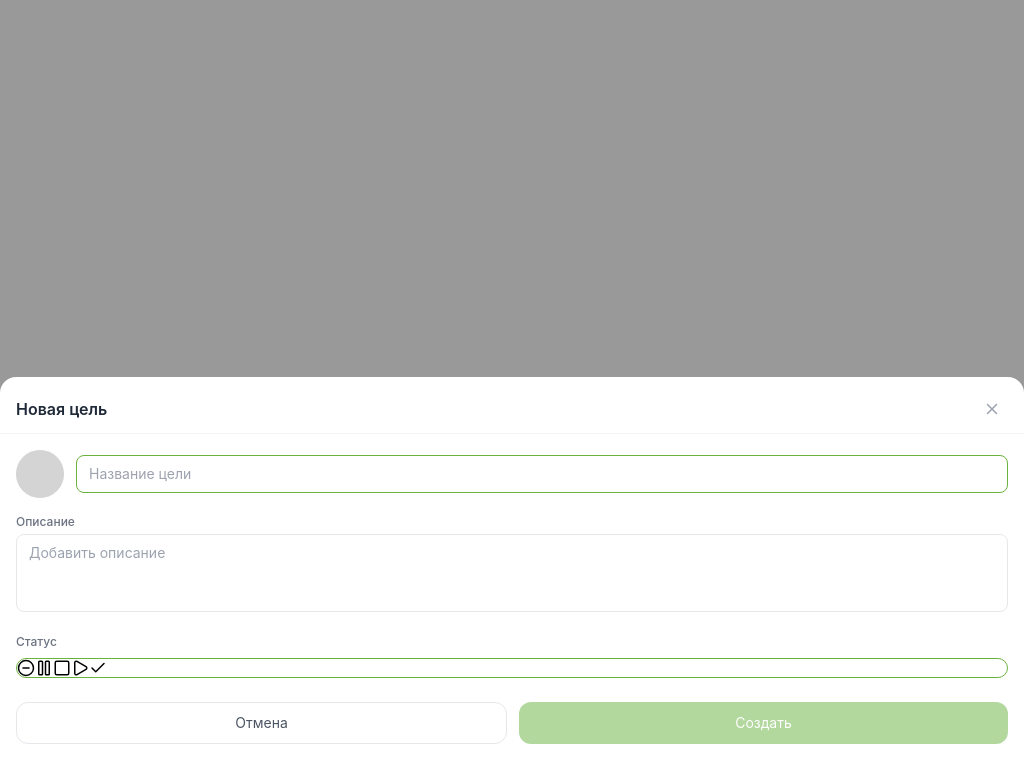
GoalCreateSheet › should enable save button when title is entered
Type "My Goal" into the field with test id "goal-create-title-input" at (542, 474), box [76, 455, 1008, 493]
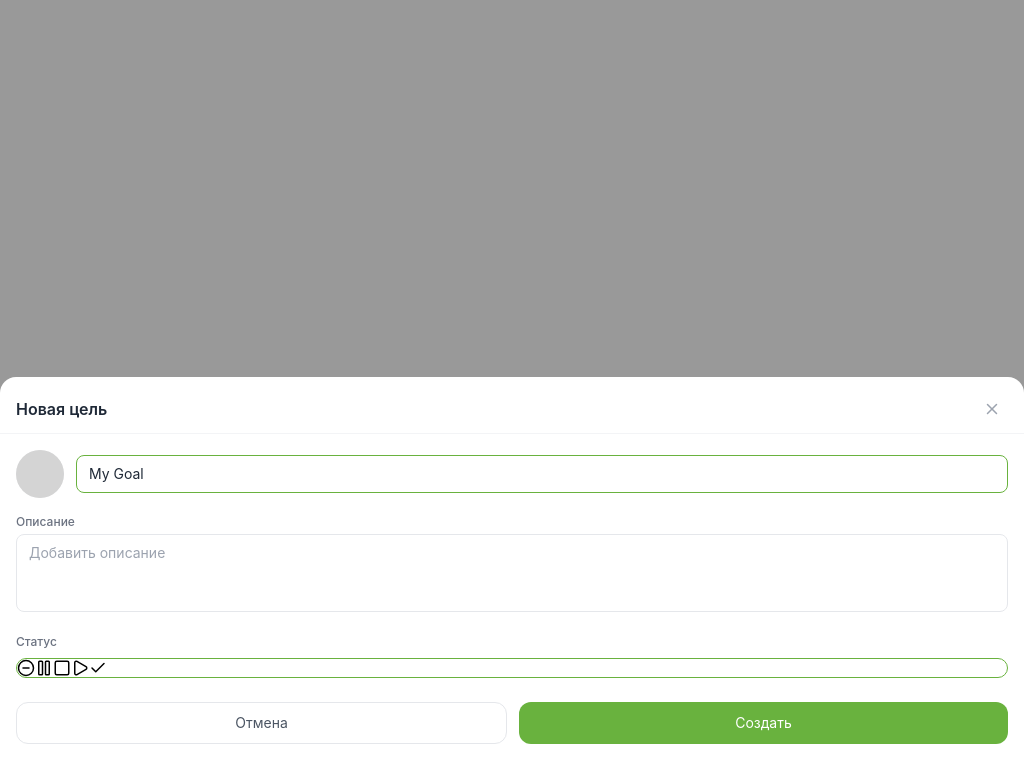
Expected: the button with test id "goal-create-save-button" is enabled, [519, 702, 1008, 744]
